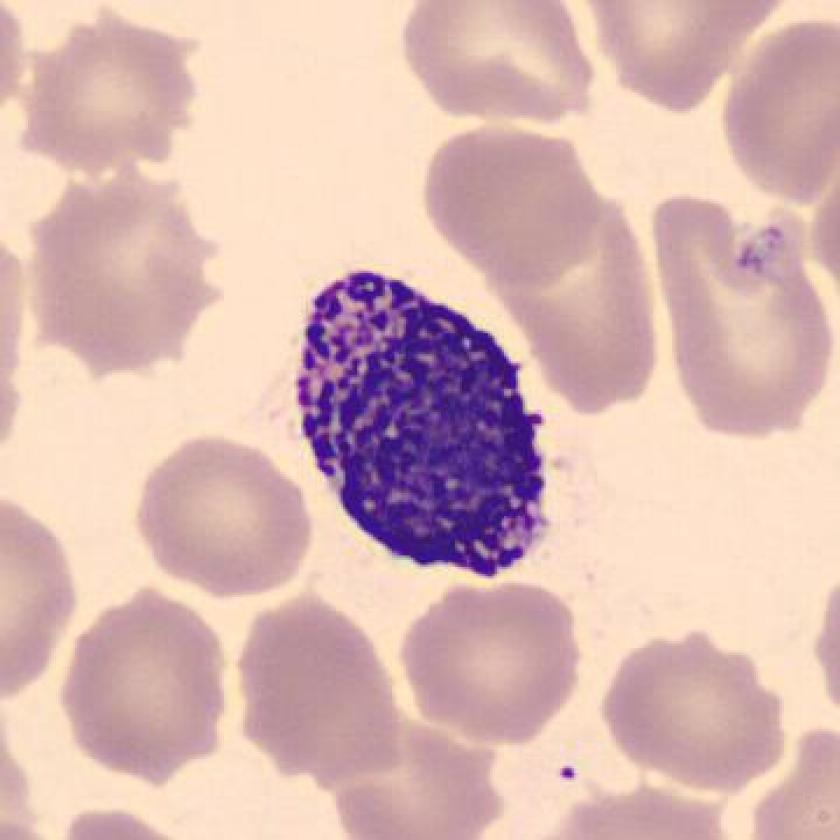basophil: (281, 265, 559, 582)
